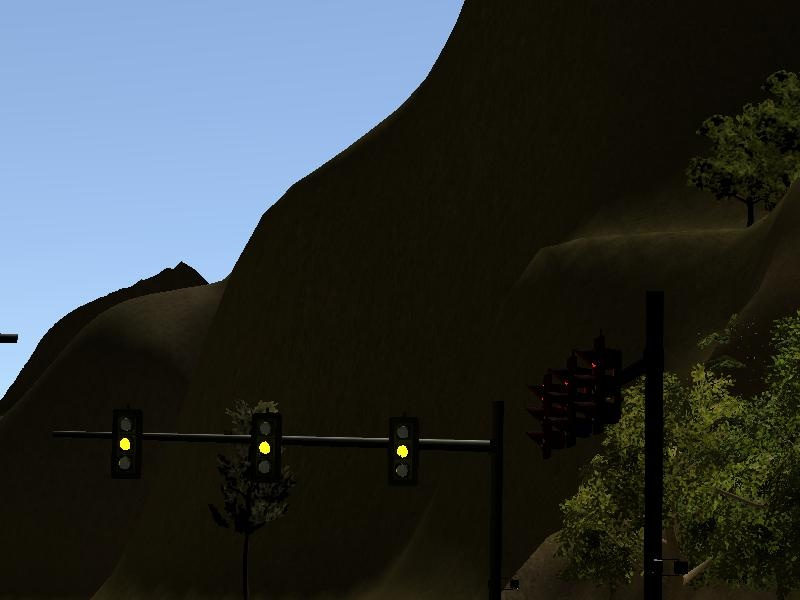YELLOW: (247, 409, 284, 481), (384, 417, 418, 482), (109, 405, 137, 473)
